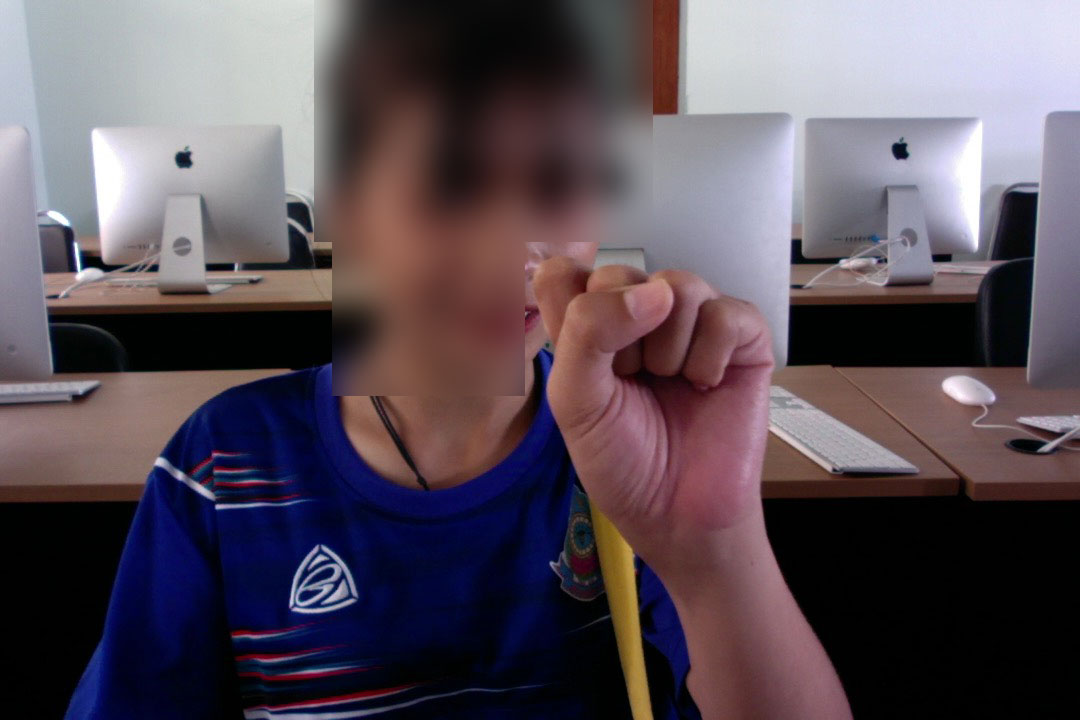sor: (525, 243, 784, 577)
